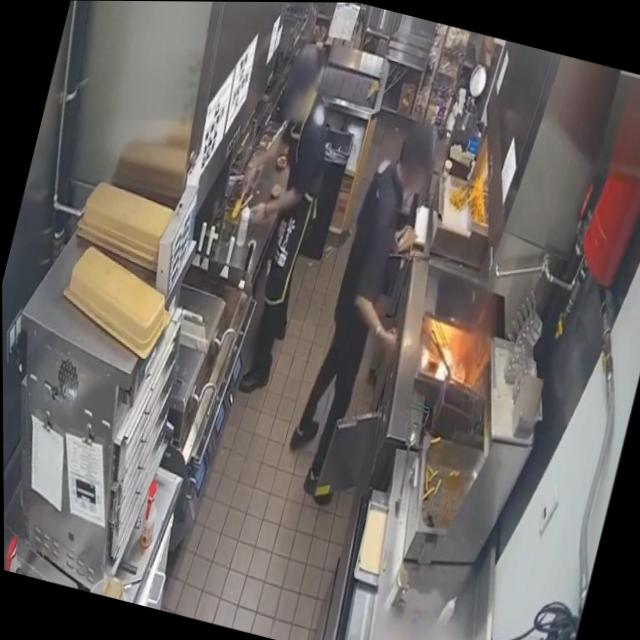fire: (430, 342, 458, 381), (452, 359, 470, 380)
